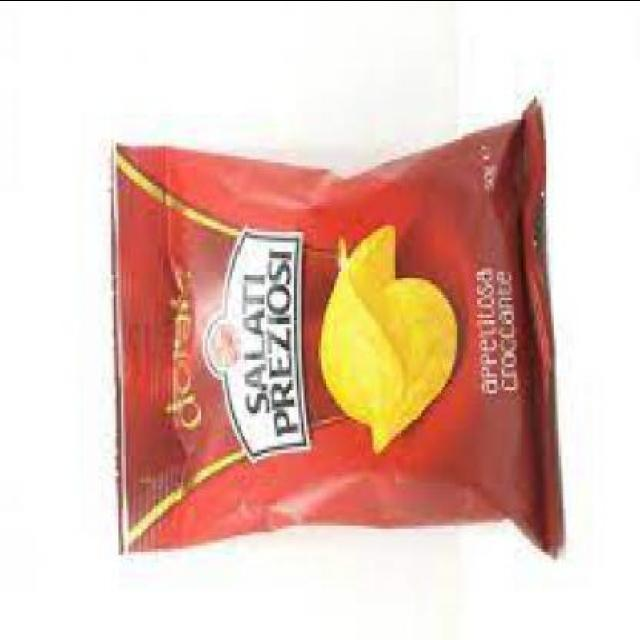Chips: (104, 96, 573, 558)
